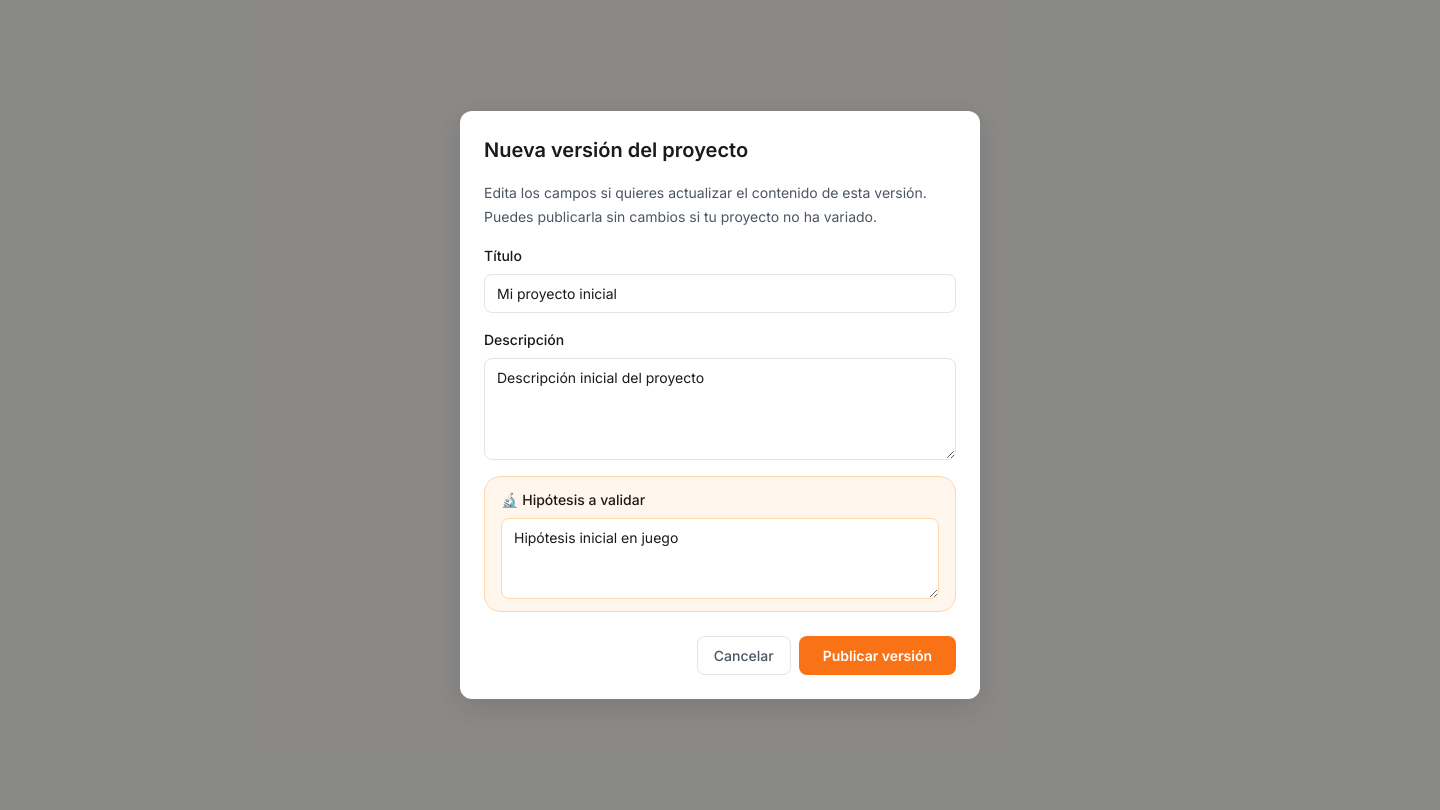
Test: NewVersionModal — estado de loading › el botón submit está deshabilitado durante el loading
Step 1. Click the button with test id "new-version-submit" → (877, 656), box 799,636 -> 956,675
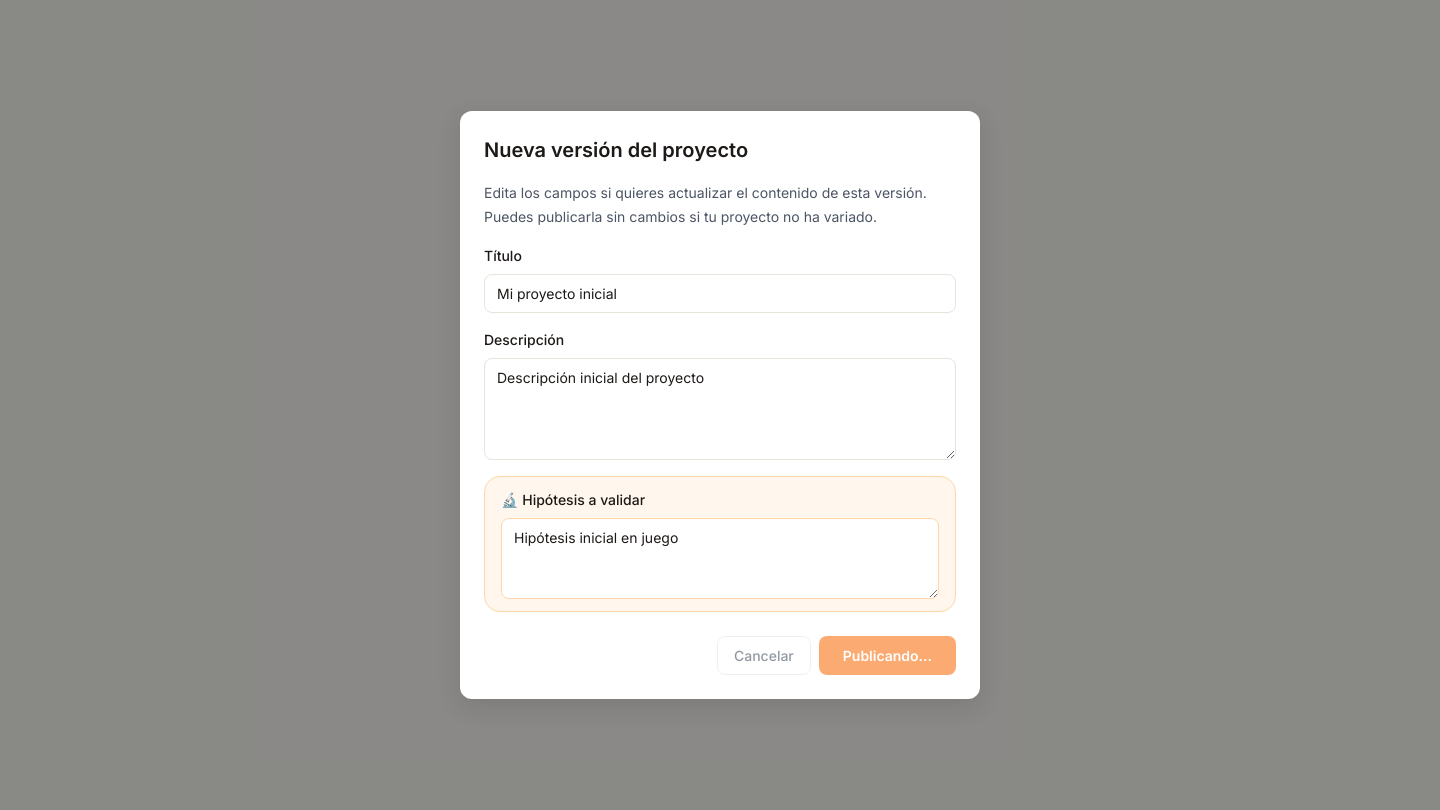
Expected: the button "Publicando..." is disabled, 819,636 -> 956,675
